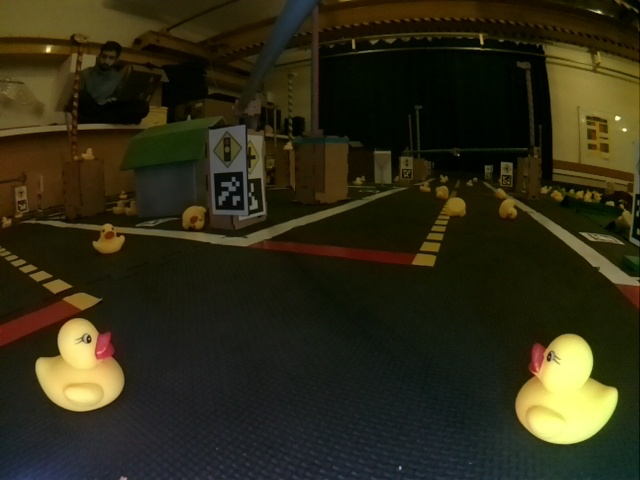Duckie: (516, 336, 619, 443), (35, 319, 125, 412), (92, 223, 125, 253), (182, 206, 205, 230), (445, 198, 466, 216), (500, 201, 516, 219), (126, 202, 136, 216), (112, 203, 122, 213), (437, 186, 447, 195)
Intersection sign: (247, 138, 260, 173)
QR code: (213, 173, 244, 211), (246, 178, 264, 215)
Signal sign: (210, 128, 243, 165)
